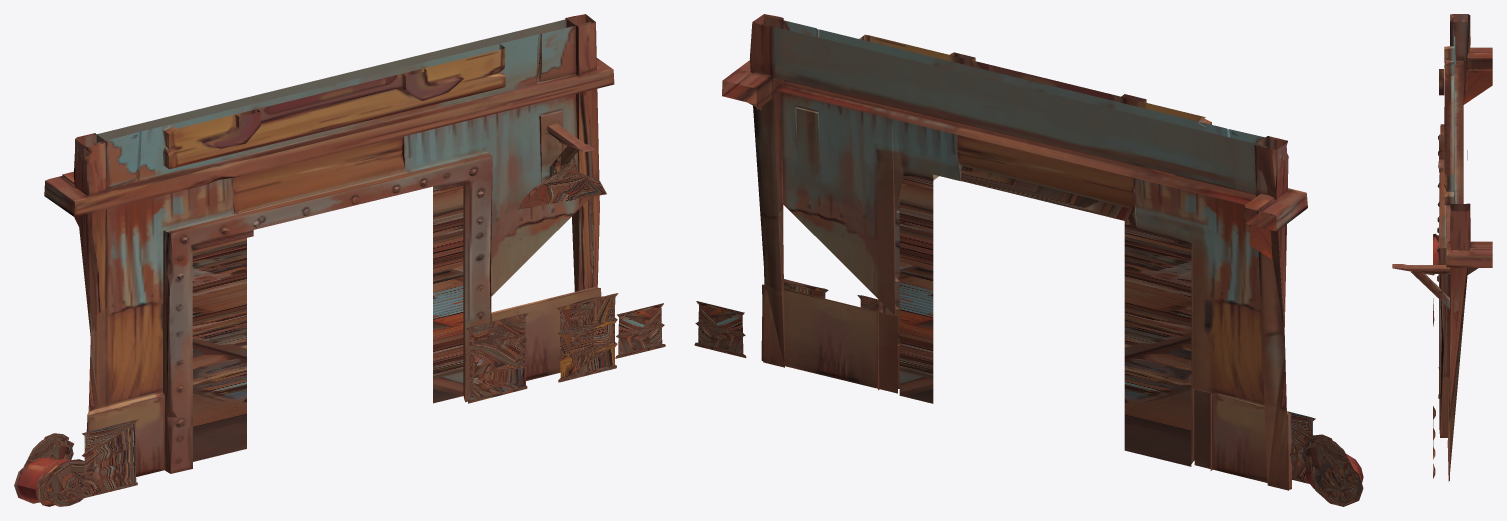
Rendered from forge_facade_s.glb.
3 renders of one model, left to right at view 1: azimuth 30°, elevation 25°; view 2: azimuth 150°, elevation 25°; view 3: azimuth 270°, elevation 25°, orthographic. The views are drawn at different scales.
Parts seen in each view (by area): view 1: wl_garage; view 2: wl_garage; view 3: wl_garage.
Boxes of the visible parts, box(x1,y1,x2,y2) form: wl_garage: box(14, 14, 665, 506); wl_garage: box(694, 14, 1363, 506); wl_garage: box(1392, 14, 1492, 481).
Bounding box in the file's own units: 7 × 3.53 × 1.18.
Materials: 2 (1 with a texture image).
